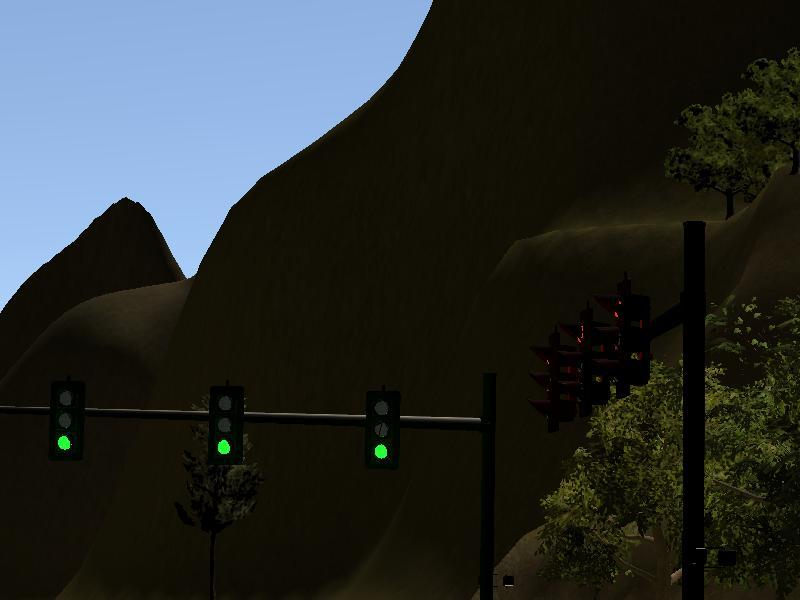Green: (51, 381, 83, 469), (211, 378, 242, 466), (369, 385, 400, 472)
